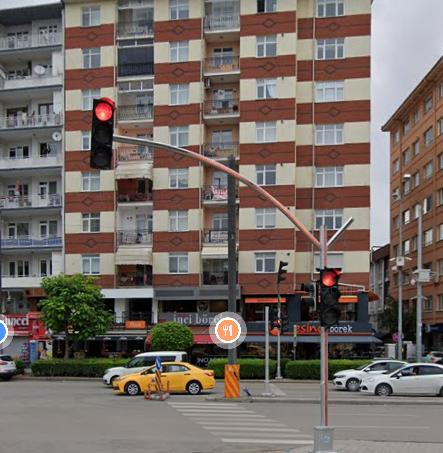redlight: (92, 98, 115, 171), (319, 266, 344, 328)
